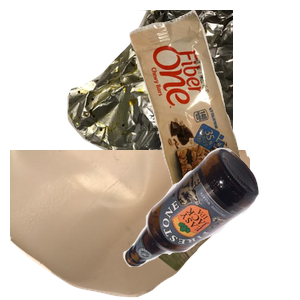glass: (120, 145, 300, 300)
metal: (60, 10, 300, 190)
plastic: (10, 150, 250, 300)
trash: (127, 10, 300, 190)
